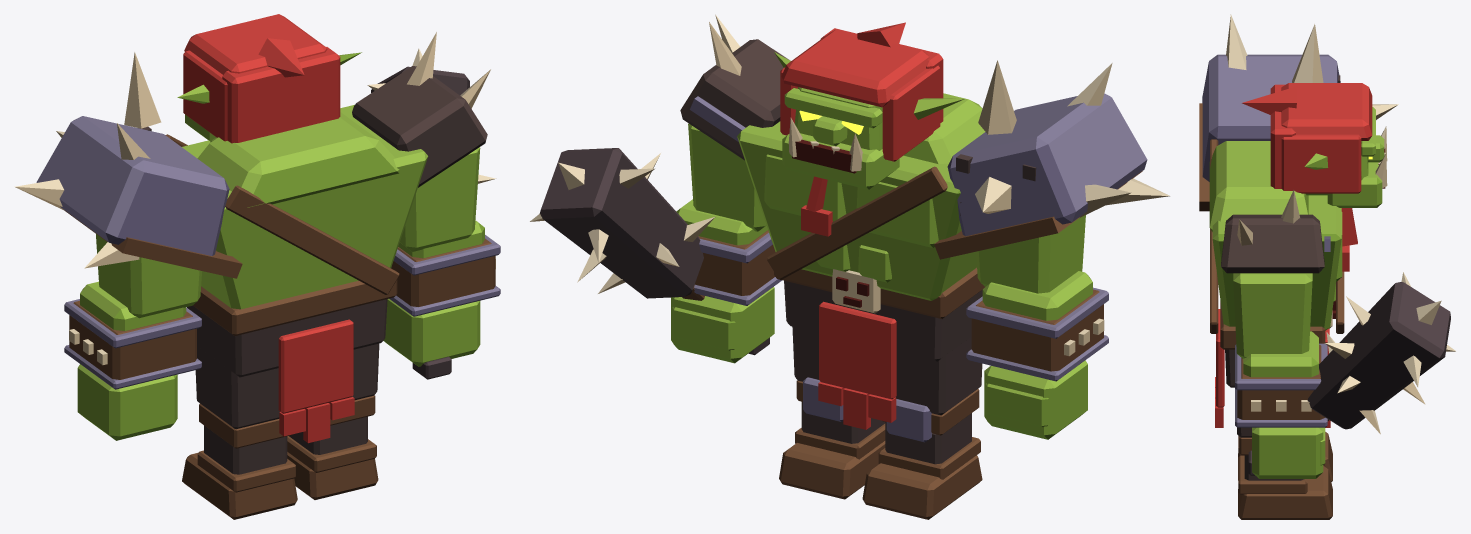
Rendered from goblin_chief.glb.
3 views of the same model, side by side, from view 1: azimuth 30°, elevation 25°; view 2: azimuth 150°, elevation 25°; view 3: azimuth 270°, elevation 25° (orthographic). The views are drawn at different scales.
Visible parts, largest first — view 1: Torso, ArmL, Hips, ArmR, LegL, LegR; view 2: Torso, ArmR, ArmL, Hips, LegL, LegR; view 3: Torso, ArmR, LegR, Hips, LegL.
Boxes of the visible parts, left/top/right/bottom form: Torso: left=14, top=14, right=490, bottom=309; ArmL: left=64, top=234, right=201, bottom=440; Hips: left=187, top=279, right=397, bottom=443; ArmR: left=367, top=48, right=500, bottom=379; LegL: left=182, top=346, right=297, bottom=519; LegR: left=287, top=343, right=379, bottom=499; Torso: left=680, top=14, right=1169, bottom=300; ArmR: left=530, top=123, right=782, bottom=363; ArmL: left=966, top=215, right=1108, bottom=439; Hips: left=774, top=267, right=984, bottom=429; LegL: left=862, top=336, right=982, bottom=519; LegR: left=779, top=326, right=885, bottom=499; Torso: left=1199, top=14, right=1398, bottom=333; ArmR: left=1233, top=272, right=1455, bottom=478; LegR: left=1237, top=427, right=1332, bottom=519; Hips: left=1215, top=300, right=1335, bottom=427; LegL: left=1238, top=432, right=1332, bottom=481.
Bounding box in the file's own units: 2.58 × 2.14 × 1.22.
